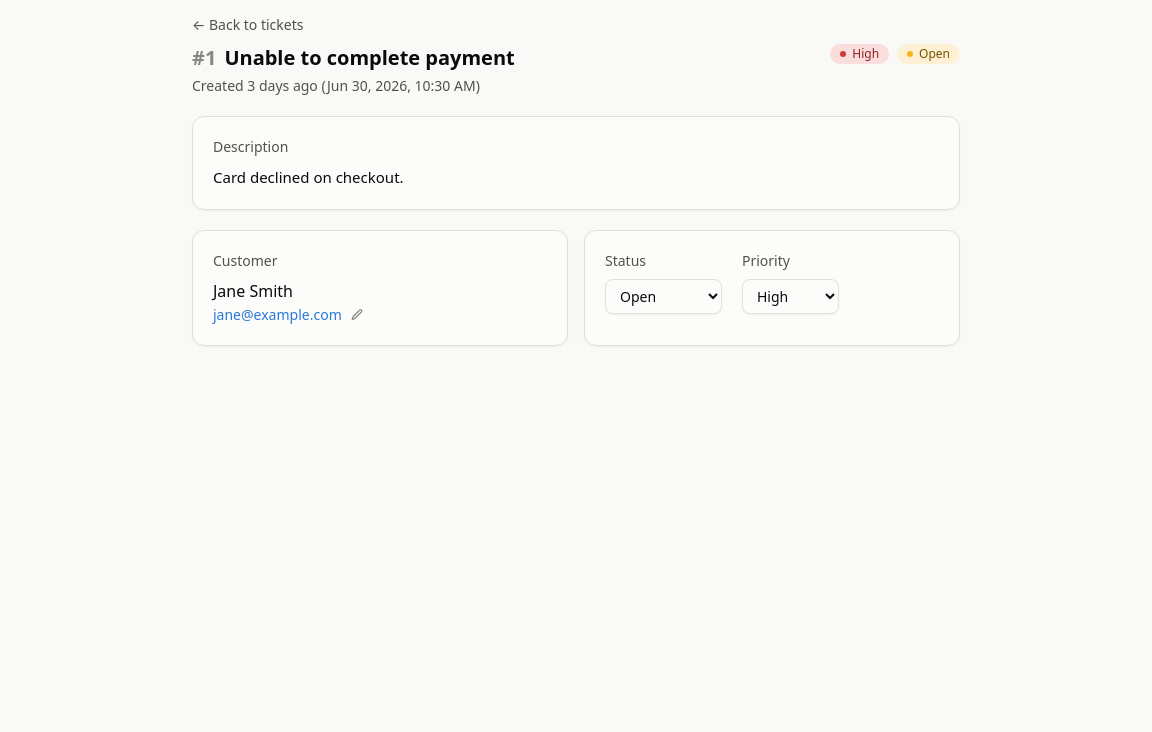
Test: TicketDetailPage inline editing › edits the title in place and saves on Enter
The image size is (1152, 732).
expect the text "Unable to complete payment" is shown: met, box x1=224 y1=44 x2=515 y2=72
Click the button "Unable to complete payment" at {"x": 380, "y": 58}, box x1=220 y1=44 x2=539 y2=72
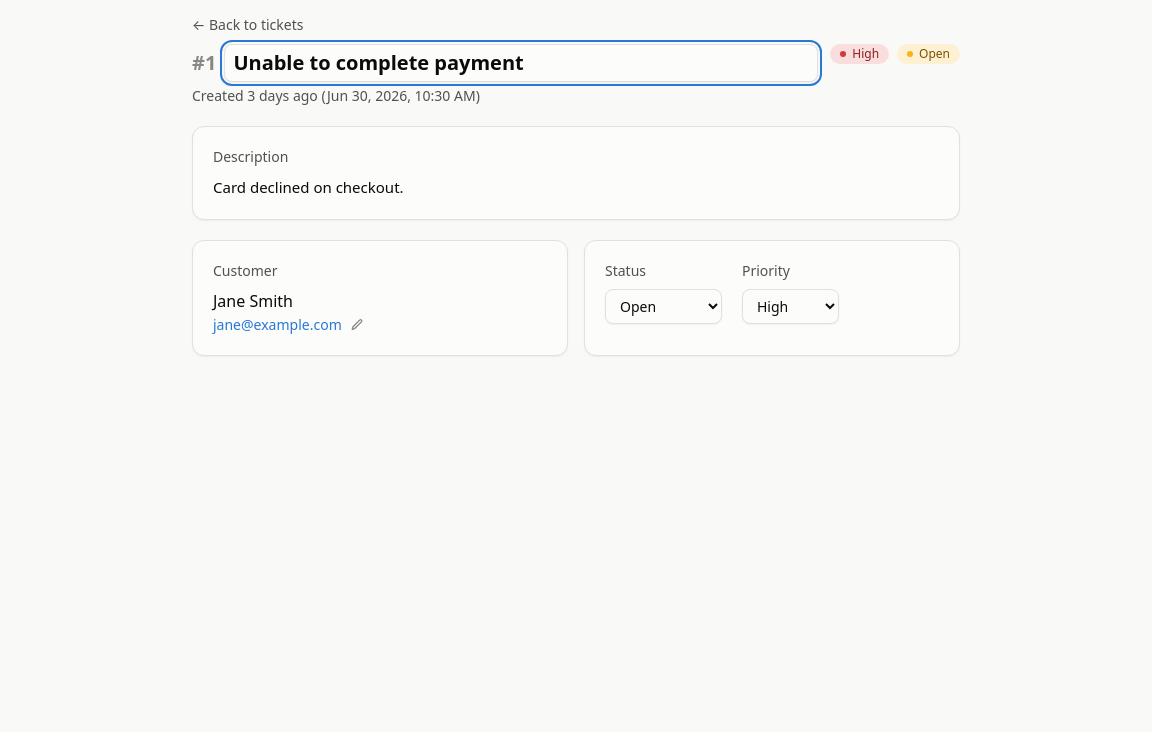
Replace the text in the field named "Title" with "Payment declined at checkout" at {"x": 521, "y": 63}, box x1=224 y1=44 x2=818 y2=82
Then press Enter
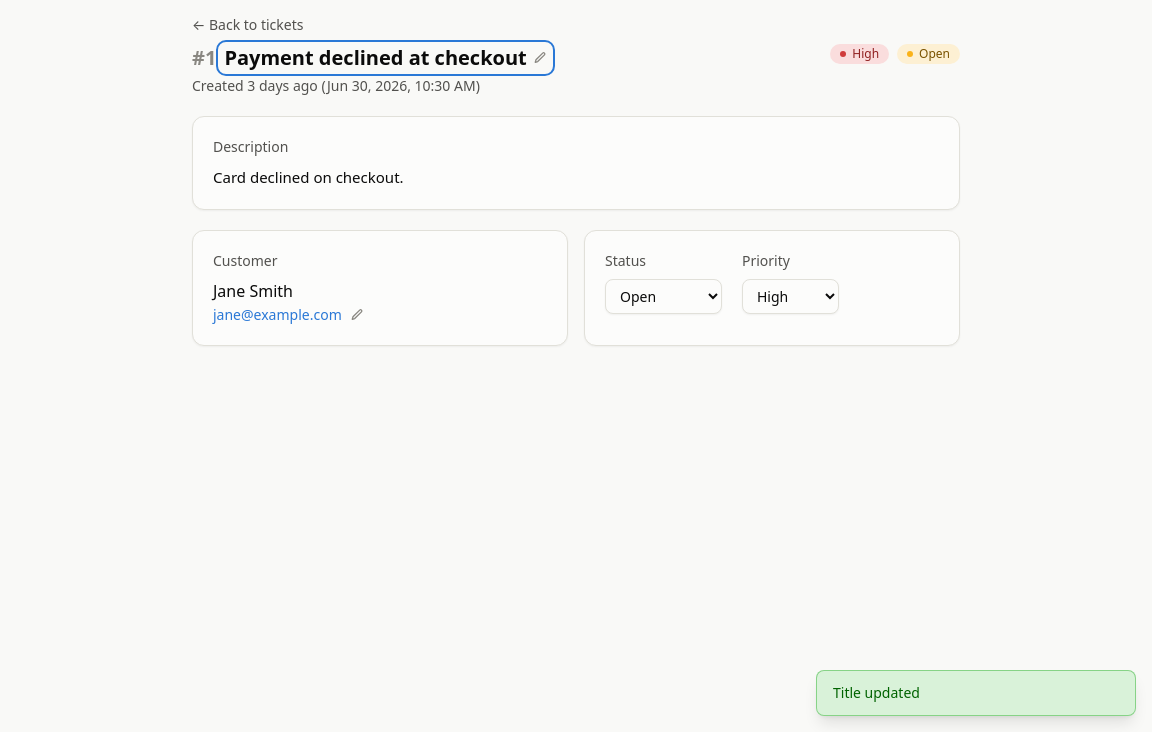
expect the text "Title updated" is shown: met, box x1=816 y1=670 x2=1136 y2=716
expect the text "Payment declined at checkout" is shown: met, box x1=224 y1=44 x2=527 y2=72
